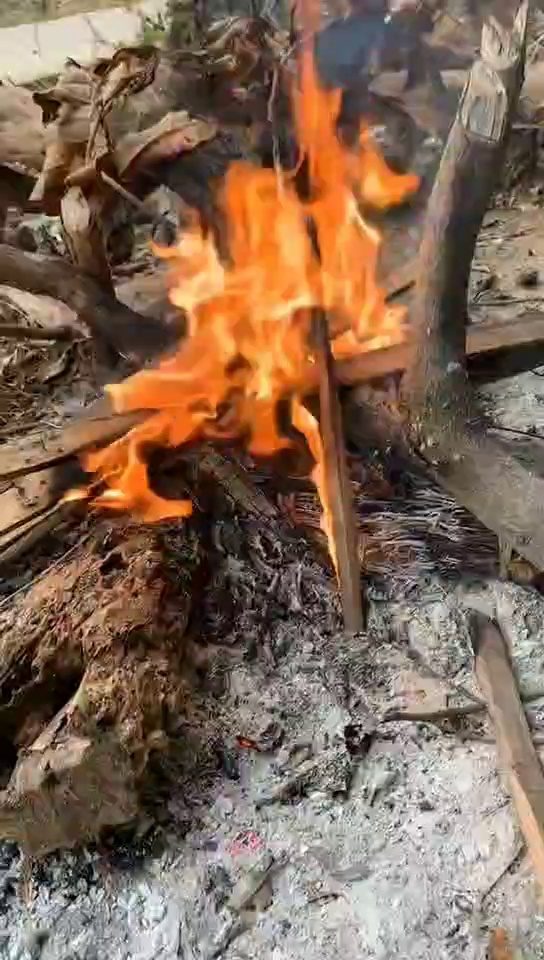fire: (131, 100, 415, 462)
